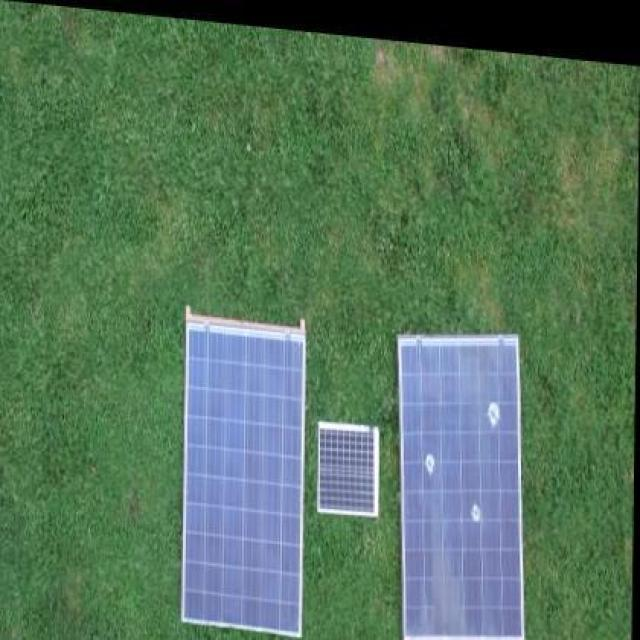soiled: (398, 330, 528, 638)
